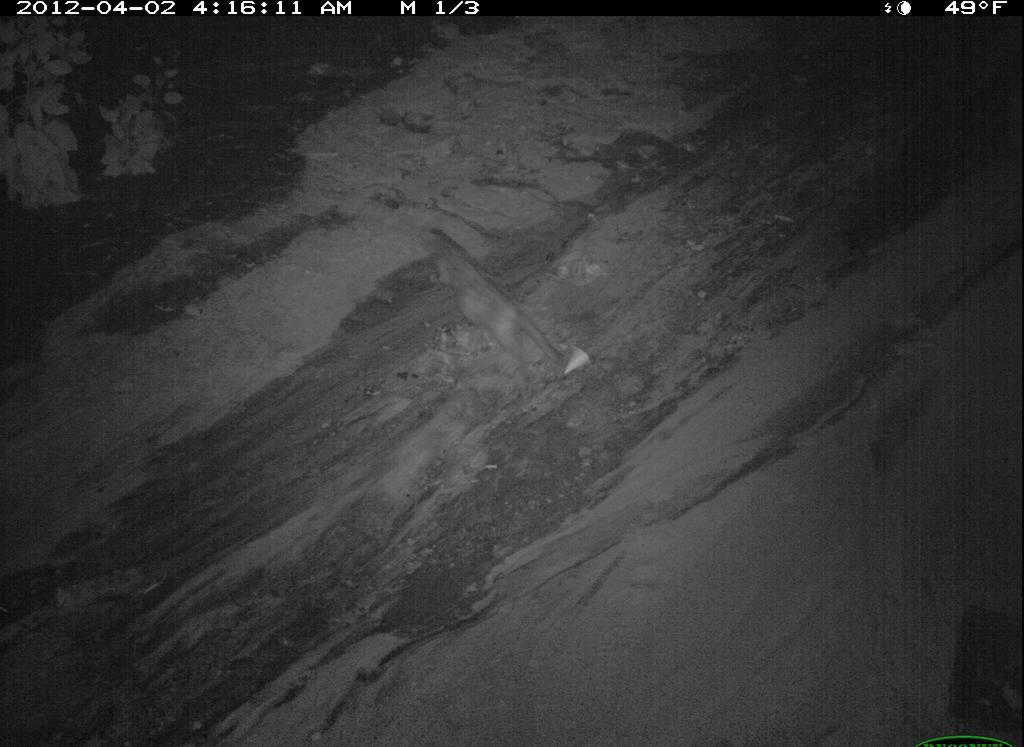cat: (834, 446, 1024, 747)
